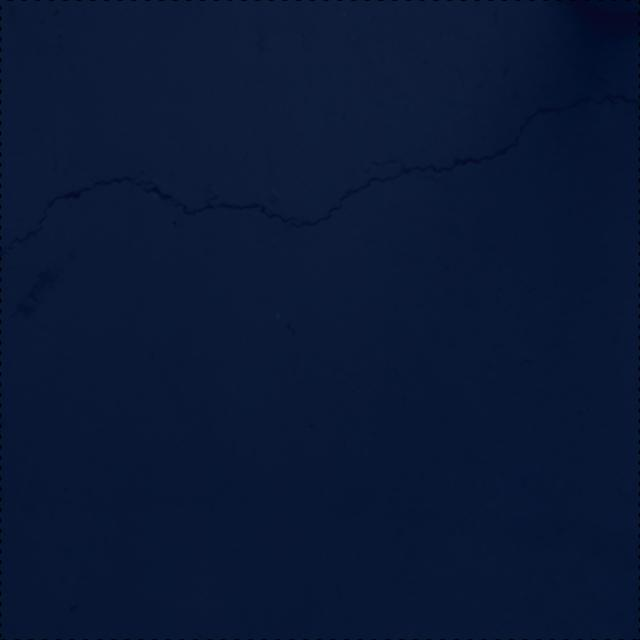crack: (0, 65, 640, 259)
